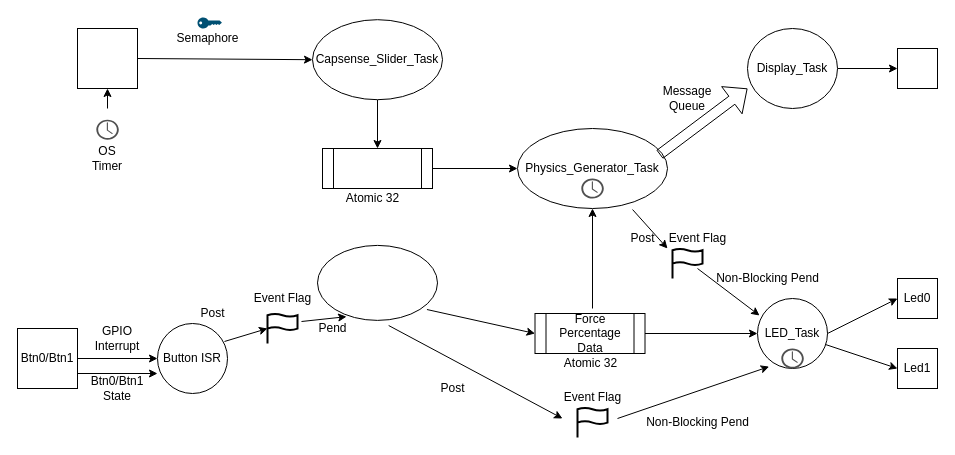
Some shapes in this 955 by 455 pixel diagram are drawn without their labels. Each missing label, with the centre of its shape:
Force Direction Data: the point at 377,168
LCD: the point at 917,68
PushButton_Task: the point at 377,282
Touch Slider: the point at 107,58
